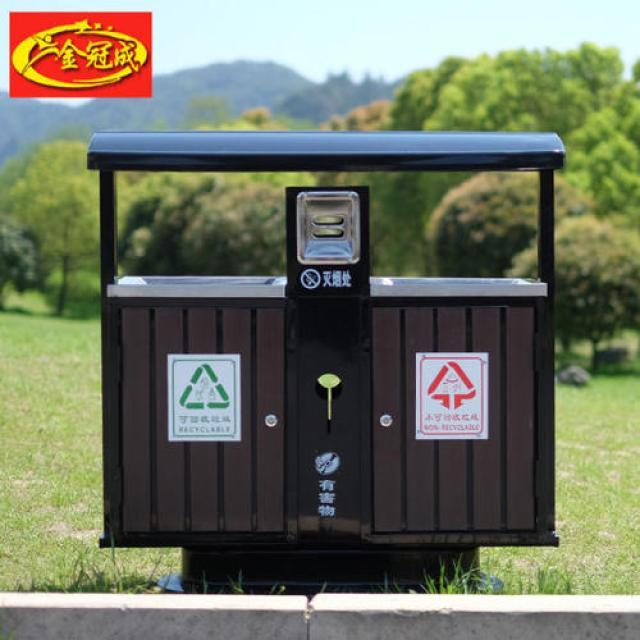garbage_bin: (83, 131, 565, 590)
